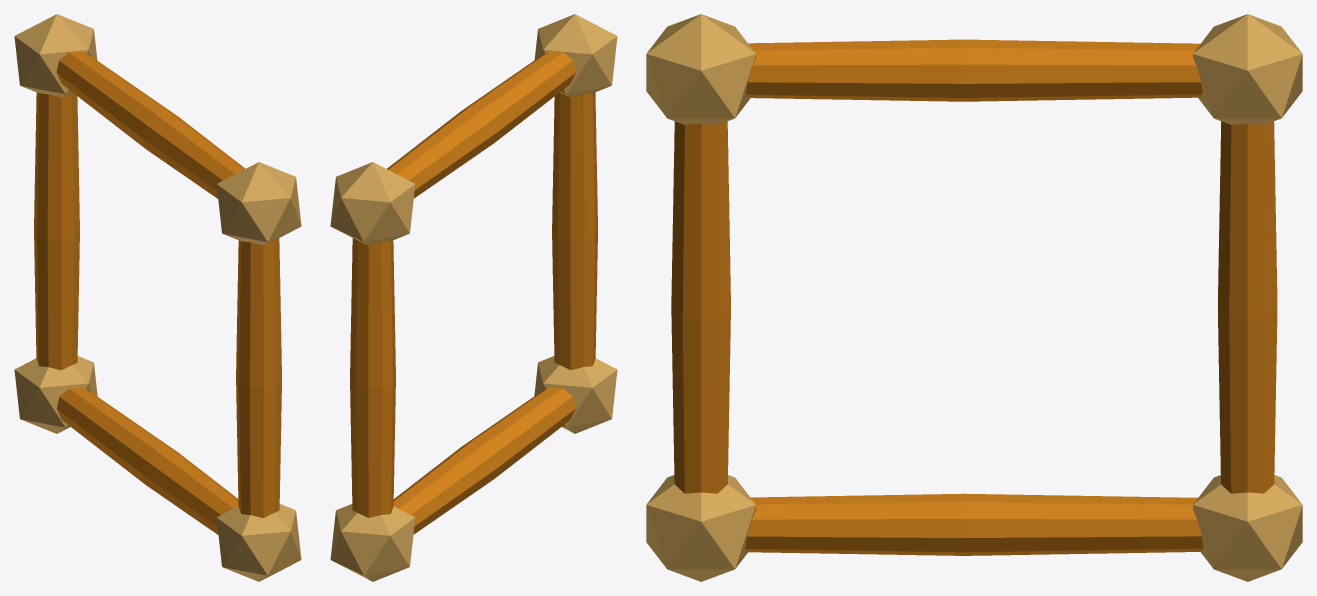
File: slotframe.fbx
3 renders of one model, left to right at view 1: azimuth 30°, elevation 25°; view 2: azimuth 150°, elevation 25°; view 3: azimuth 270°, elevation 25°, orthographic. The views are drawn at different scales.
Visible parts, largest first — view 1: Torus; view 2: Torus; view 3: Torus.
Boxes of the visible parts, x1=… form: Torus: x1=14, y1=14, x2=301, y2=581; Torus: x1=330, y1=14, x2=617, y2=581; Torus: x1=646, y1=14, x2=1302, y2=581.
Size of the model in its own units: 179 by 970 by 1016.
